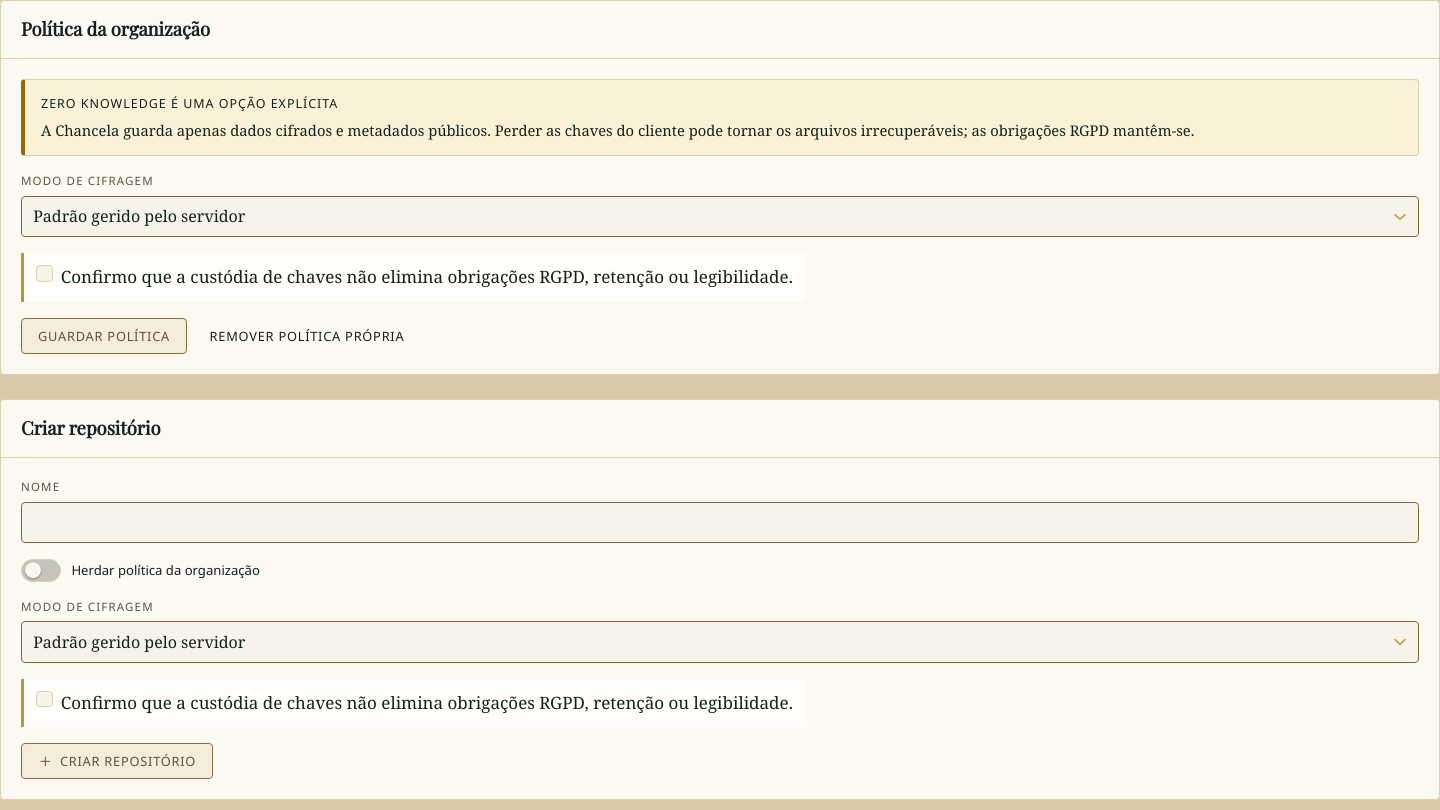
TenantPolicyEditor › requires the GDPR acknowledgement before the policy can be saved
The width and height of the screenshot is (1440, 810).
Check: the button "Guardar política" is disabled, box x1=21 y1=318 x2=187 y2=354
Click the checkbox named "Confirmo que a custódia de chaves não elimina obrigações RGPD, retenção ou legibilidade.".
click(44, 274)  # box x1=36 y1=265 x2=53 y2=282
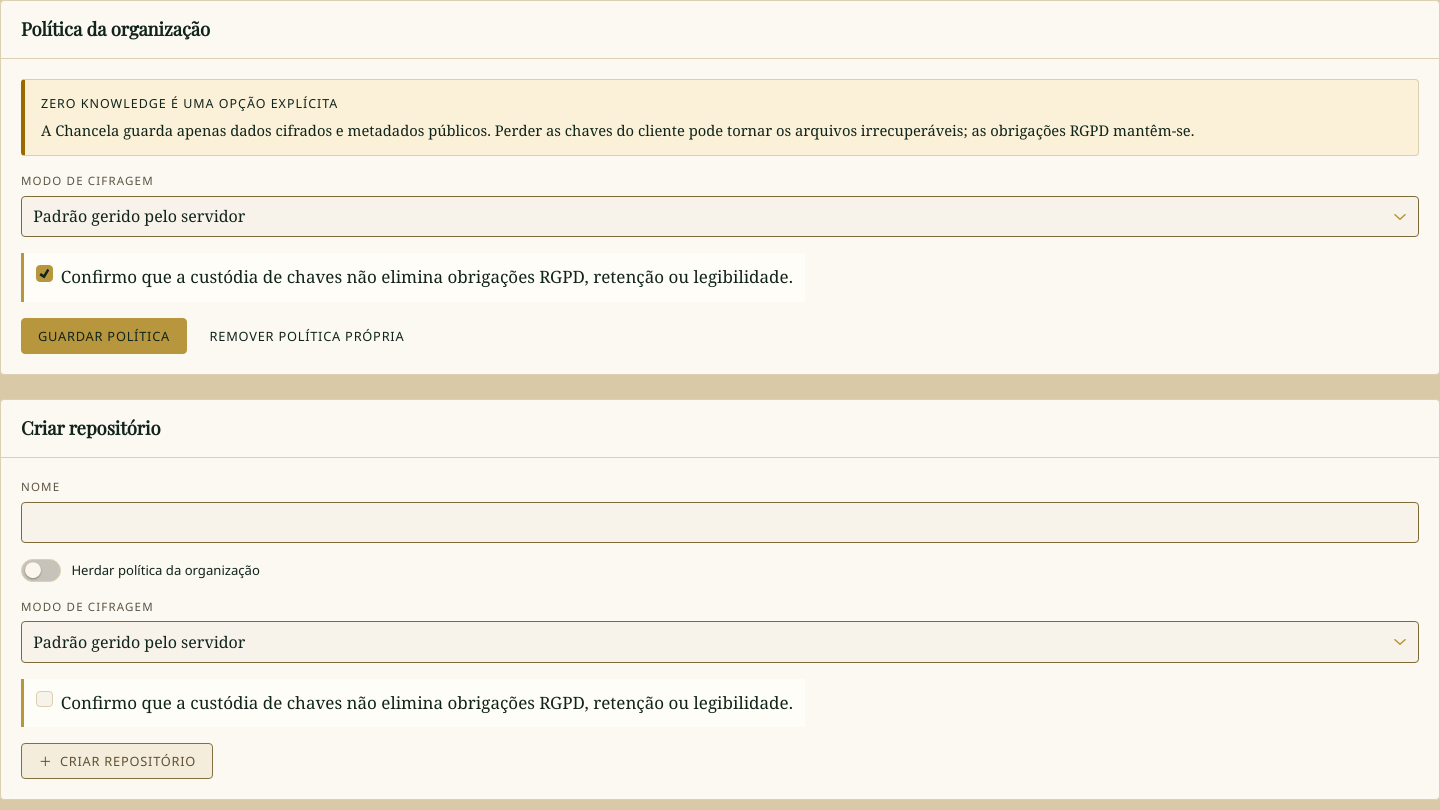
Check: the button "Guardar política" is enabled, box x1=21 y1=318 x2=187 y2=354
